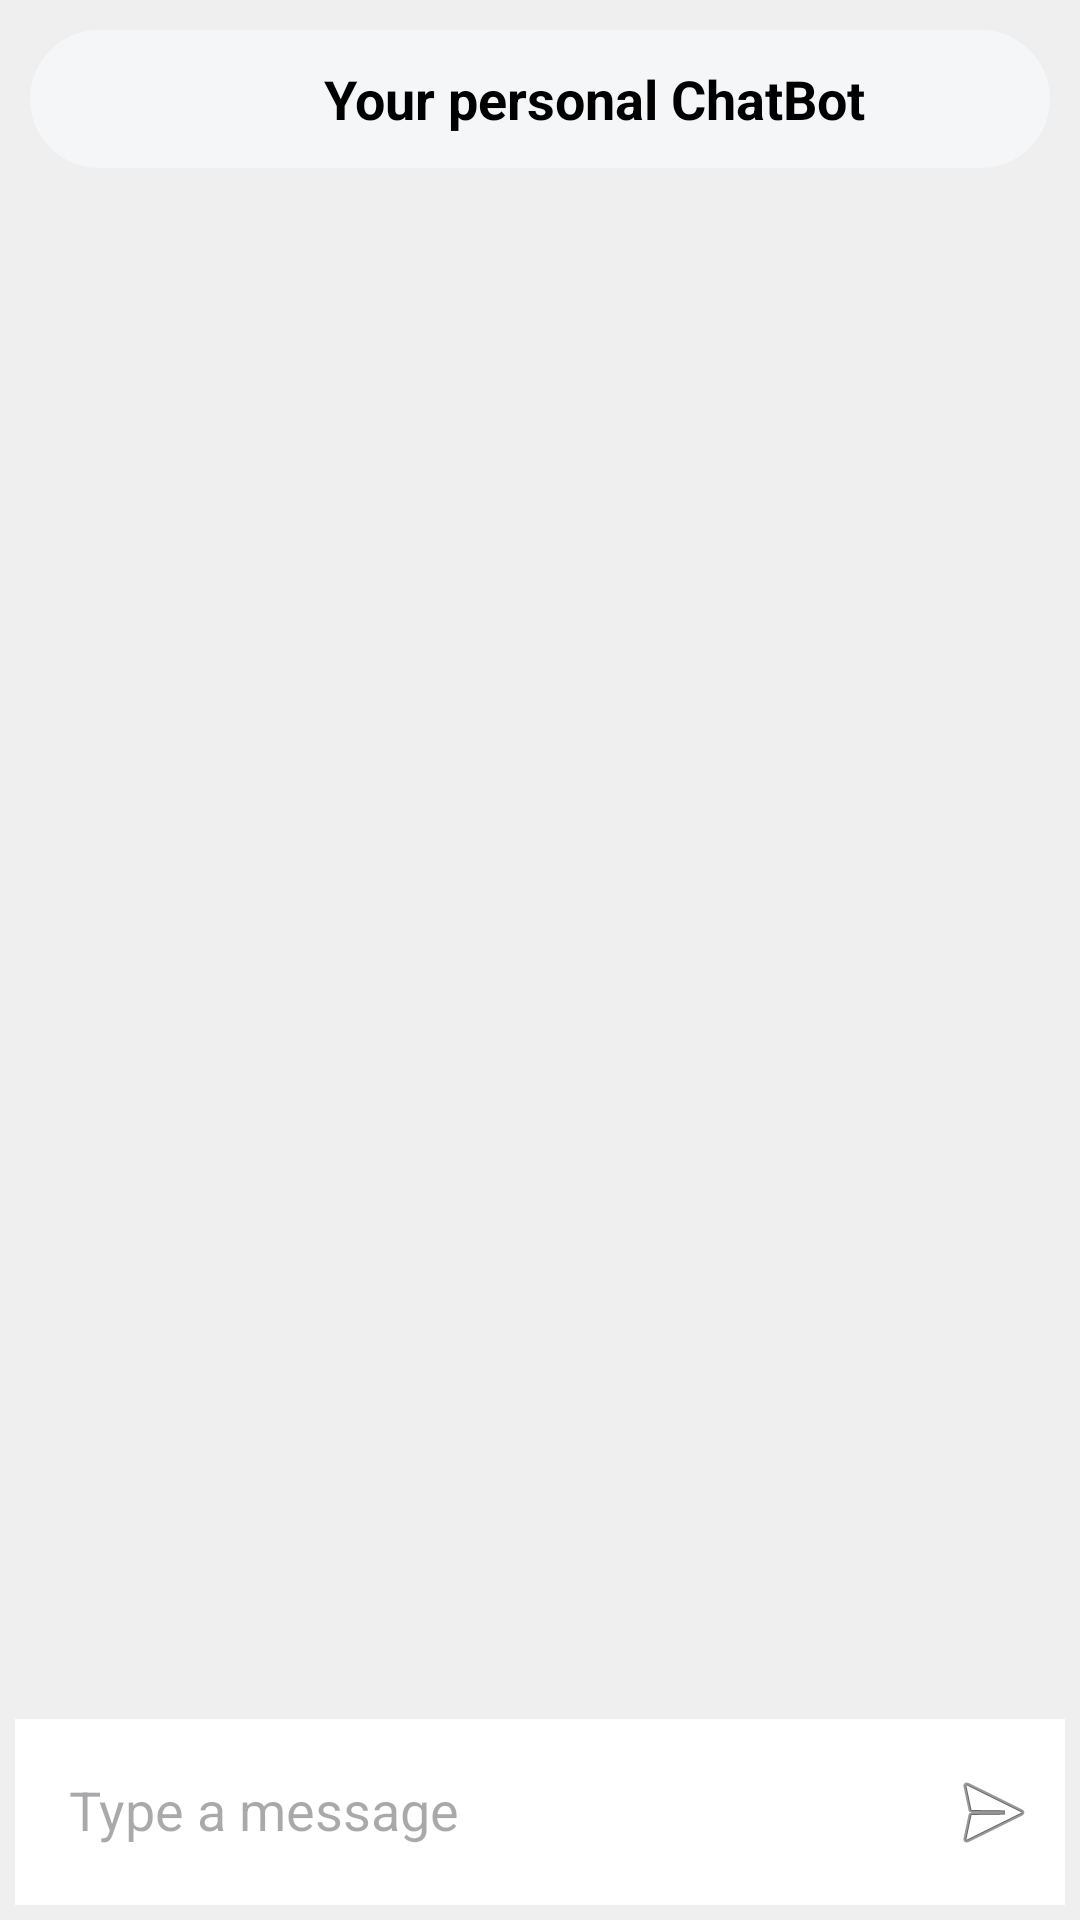

Icon bounding boxes for this 1080×1920 phone screenshot, format (x1, y1, x2, y2):
Send: (963, 1782, 1025, 1843)
